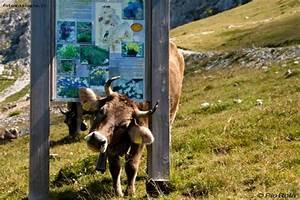cow: (78, 75, 159, 197)
